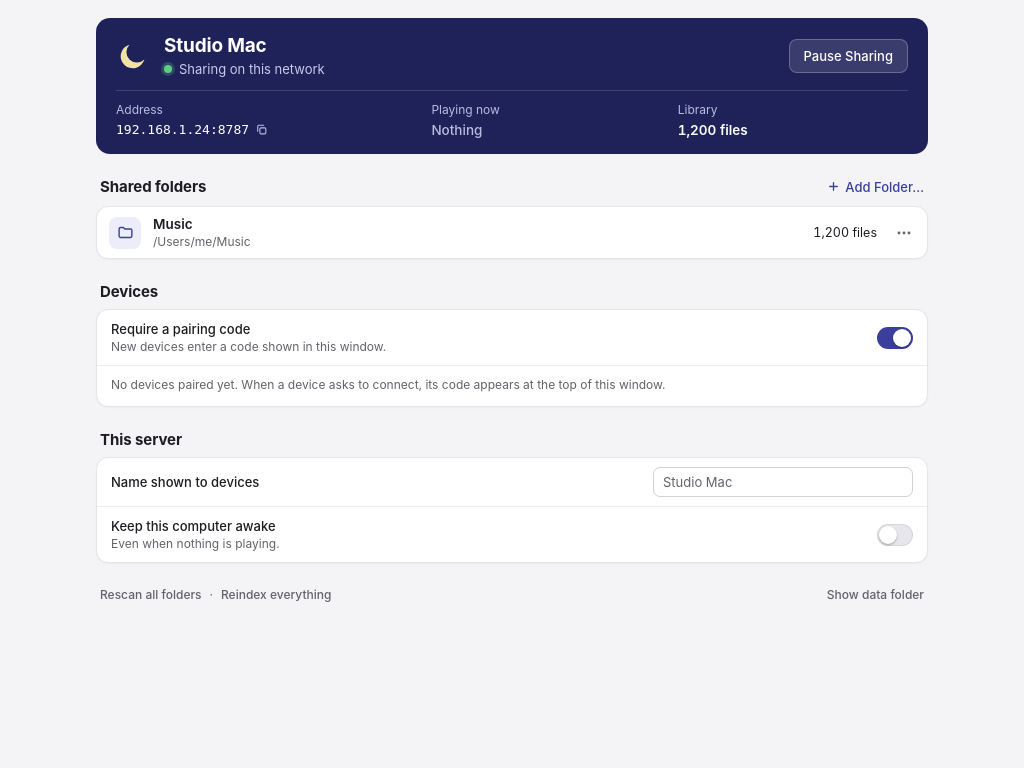
Test case: footer › Reindex everything confirms it started
Click the button "Reindex everything". click: (276,596)
box: [215,583,338,608]
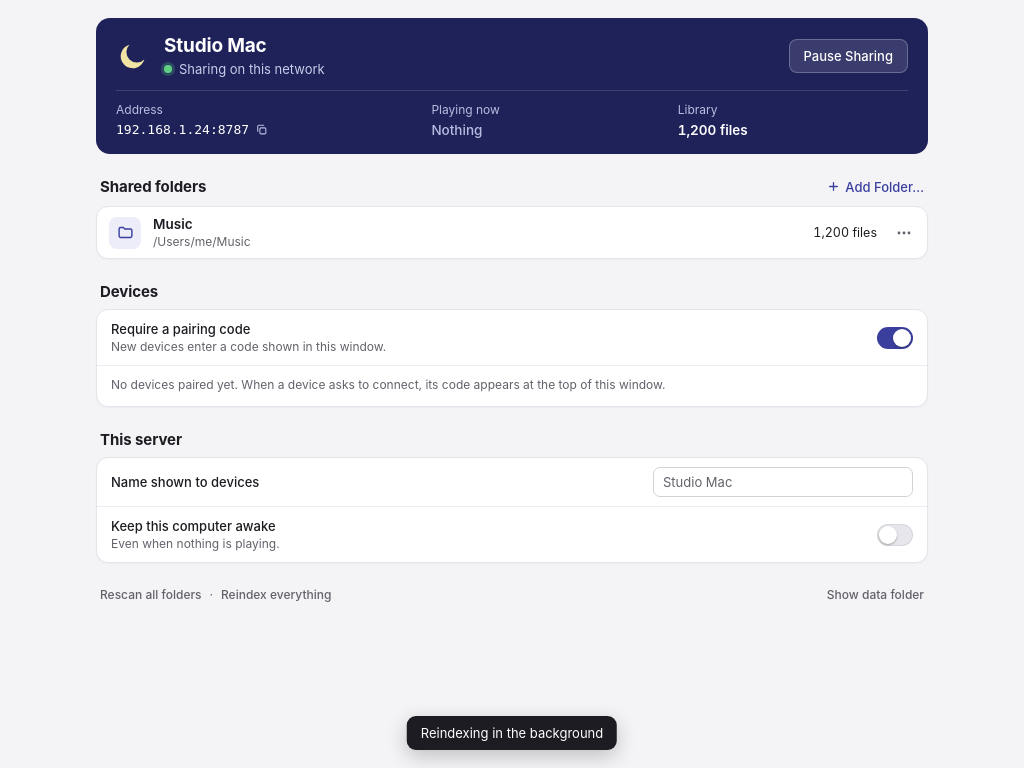
Result: the message reads "Reindexing in the background" at [421,725,603,741]
